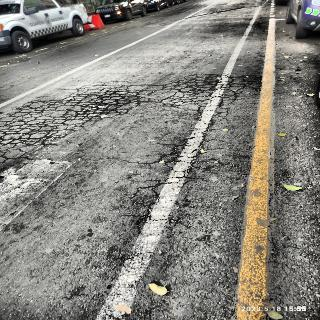alligator-crack: (132, 105, 238, 222), (0, 85, 149, 145), (165, 70, 255, 101)
